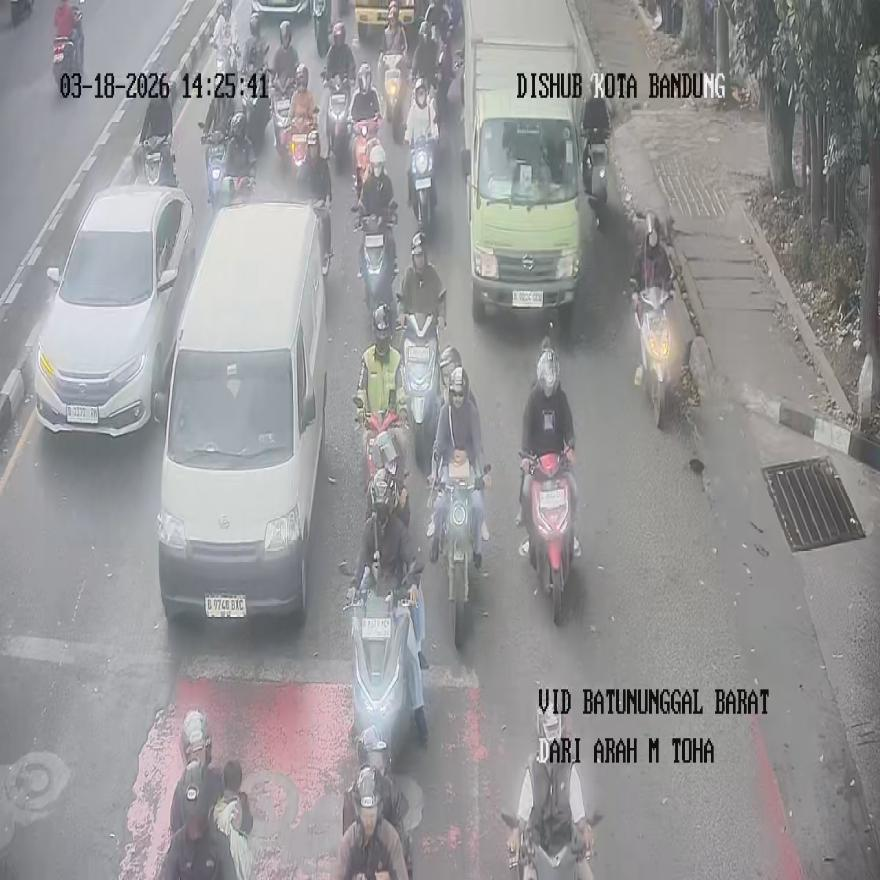Mobil: (157, 201, 327, 624), (34, 184, 196, 436), (461, 1, 583, 331)
Motor: (342, 562, 420, 774), (520, 446, 578, 625), (436, 464, 490, 649), (354, 394, 407, 526), (501, 810, 599, 880), (398, 314, 440, 477), (632, 284, 674, 428), (357, 199, 397, 319), (408, 133, 436, 237), (52, 10, 83, 94), (352, 115, 381, 200), (378, 51, 405, 142), (324, 80, 350, 173), (582, 131, 606, 228), (199, 122, 225, 204), (270, 74, 294, 157), (142, 134, 176, 187), (313, 197, 333, 275), (10, 0, 33, 27)
